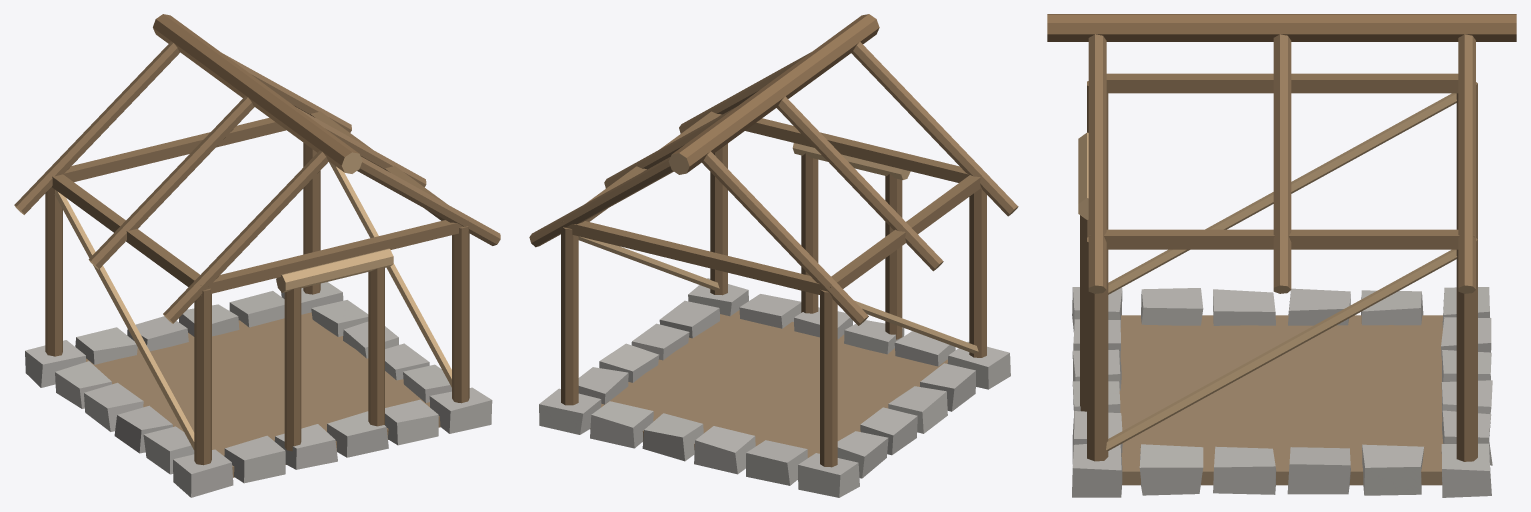
The model's file is building_mud_brick_house_frame.glb.
The picture shows the model from 3 angles, left to right: view 1: azimuth 30°, elevation 25°; view 2: azimuth 150°, elevation 25°; view 3: azimuth 270°, elevation 25°; orthographic projection. The views are drawn at different scales.
Parts seen in each view (by area): view 1: building_mud_brick_house_frame; view 2: building_mud_brick_house_frame; view 3: building_mud_brick_house_frame.
Part boxes in pixels (<box>): building_mud_brick_house_frame: <box>14,14,500,497</box>; building_mud_brick_house_frame: <box>529,14,1018,497</box>; building_mud_brick_house_frame: <box>1047,14,1516,497</box>.
Bounding box in the file's own units: 3.85 × 3.47 × 3.76.
